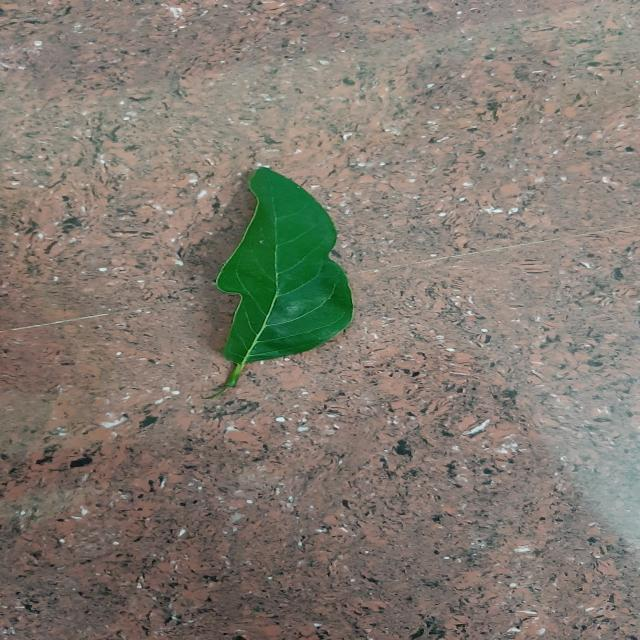seethaphala: (209, 168, 352, 399)
